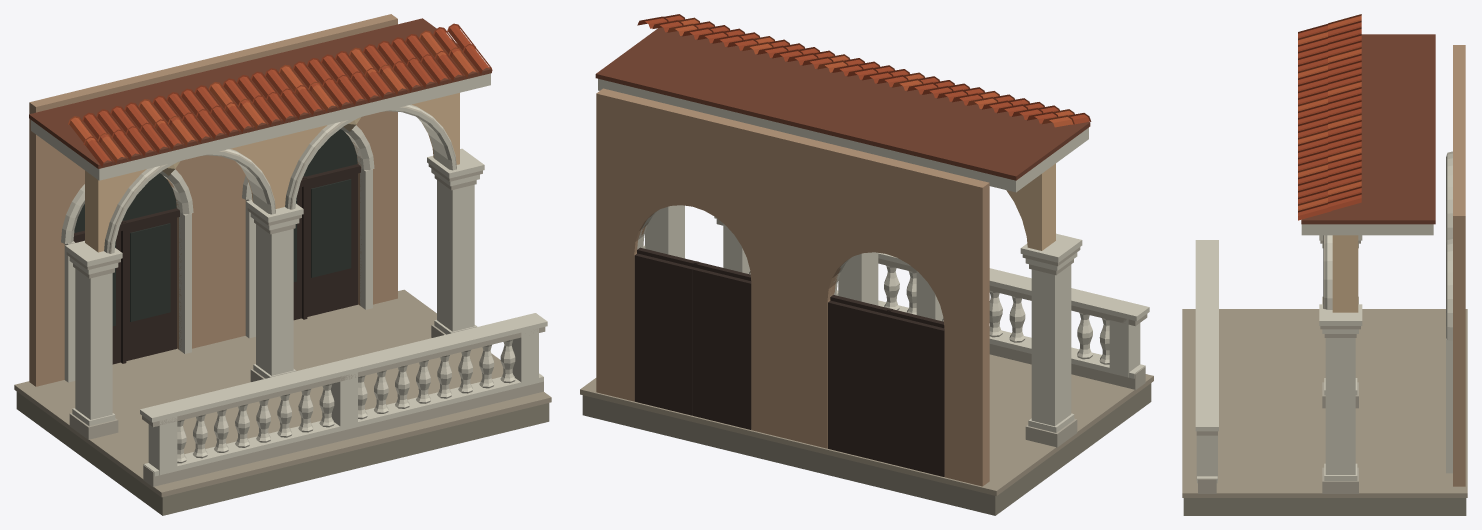
Rendered from xuhui-anting-villa-garden-arcade-lod.glb.
3 views of the same model, side by side, from view 1: azimuth 30°, elevation 25°; view 2: azimuth 150°, elevation 25°; view 3: azimuth 270°, elevation 25° (orthographic). The views are drawn at different scales.
Parts seen in each view (by area): view 1: 安亭别墅1号楼花园券廊; view 2: 安亭别墅1号楼花园券廊; view 3: 安亭别墅1号楼花园券廊.
Part boxes in pixels (bbox=[...]): 安亭别墅1号楼花园券廊: bbox=[14, 14, 551, 515]; 安亭别墅1号楼花园券廊: bbox=[580, 14, 1153, 515]; 安亭别墅1号楼花园券廊: bbox=[1182, 14, 1467, 515].
Size of the model in its own units: 5.62 by 4.48 by 3.61.
